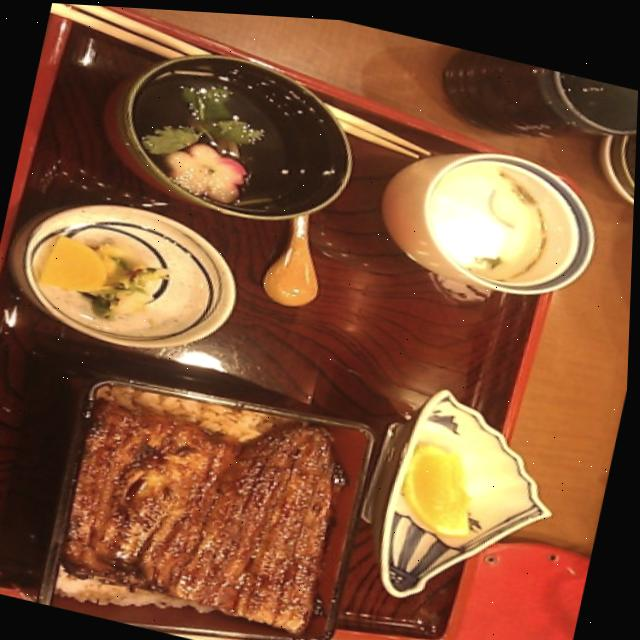鸡蛋料理: (353, 114, 624, 332)
